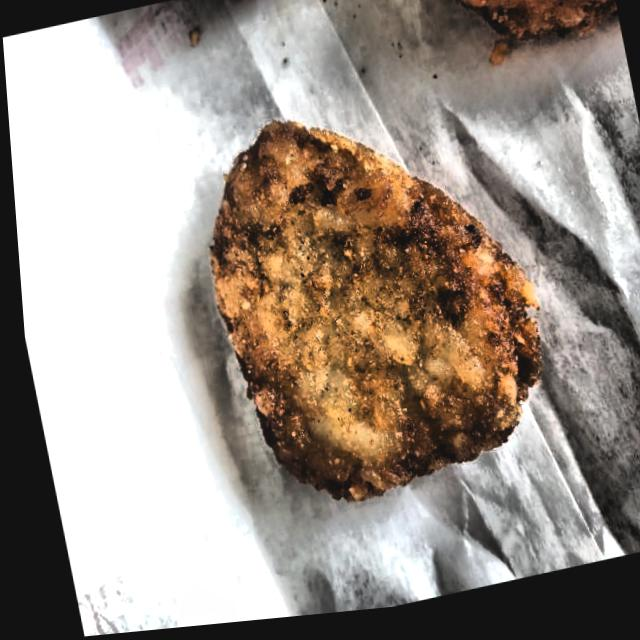Food: (172, 72, 565, 535)
